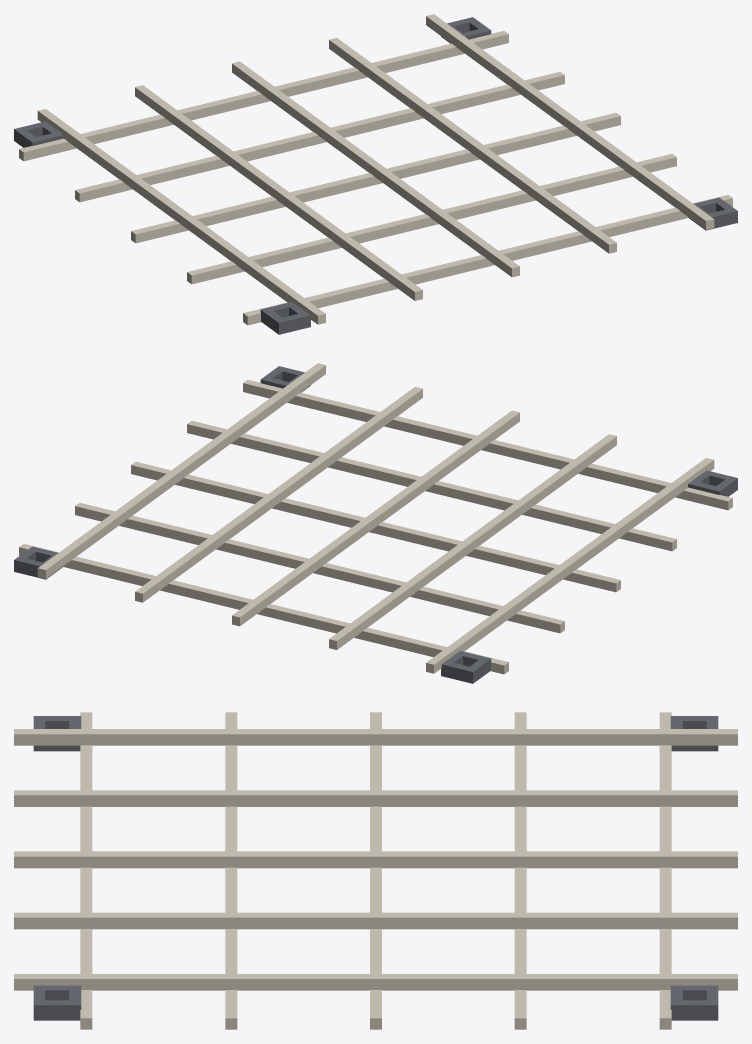
Rendered from SN_Cargo_Net.glb.
3 renders of one model, top to bottom at view 1: azimuth 30°, elevation 25°; view 2: azimuth 150°, elevation 25°; view 3: azimuth 270°, elevation 25°, orthographic. The views are drawn at different scales.
Visible parts, largest first — view 1: SN_Cargo_Net; view 2: SN_Cargo_Net; view 3: SN_Cargo_Net.
Part boxes in pixels (x1=…): SN_Cargo_Net: x1=14, y1=14, x2=737, y2=334; SN_Cargo_Net: x1=14, y1=363, x2=737, y2=683; SN_Cargo_Net: x1=14, y1=712, x2=737, y2=1029.
Size of the model in its own units: 3 by 0.104 by 3.
